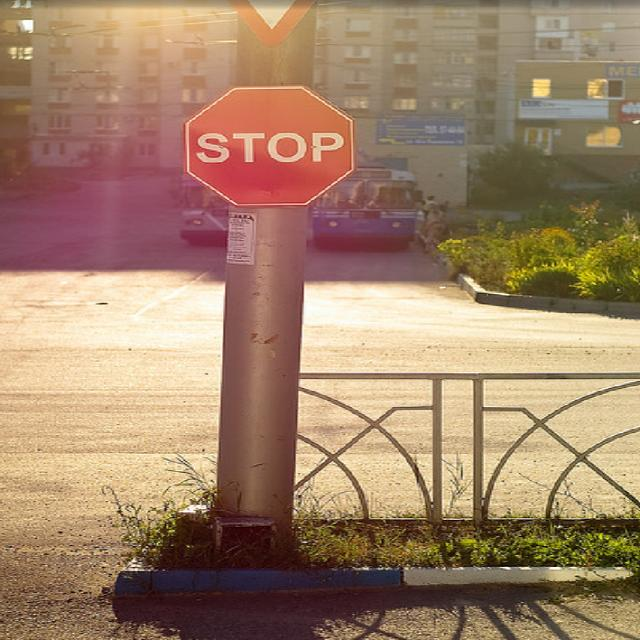STOP: (184, 80, 362, 209)
